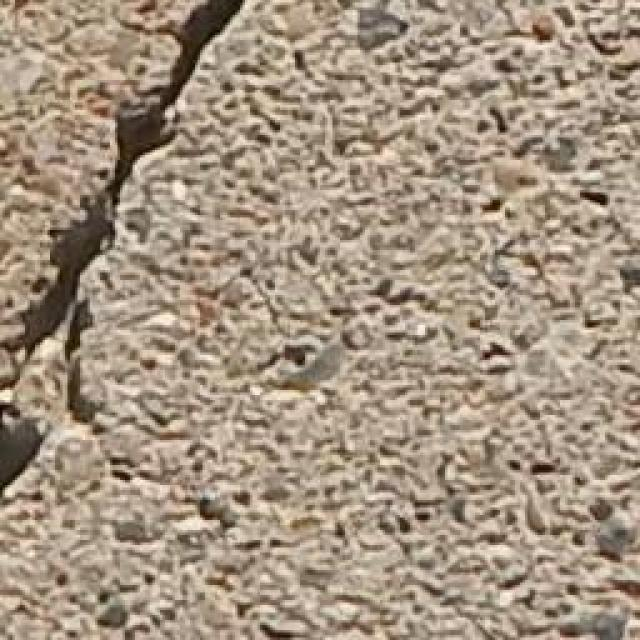concrete-crack: (0, 0, 251, 518)
